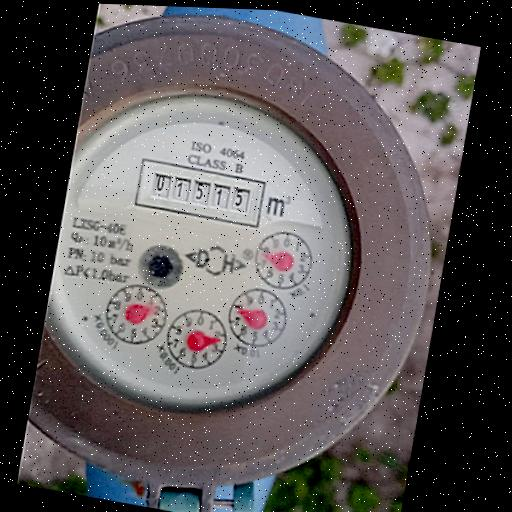0: (152, 175, 170, 199)
1: (172, 179, 190, 202), (212, 186, 229, 209)
5: (233, 188, 250, 212), (194, 181, 210, 205)
border_water_meter_number: (133, 158, 267, 229)
